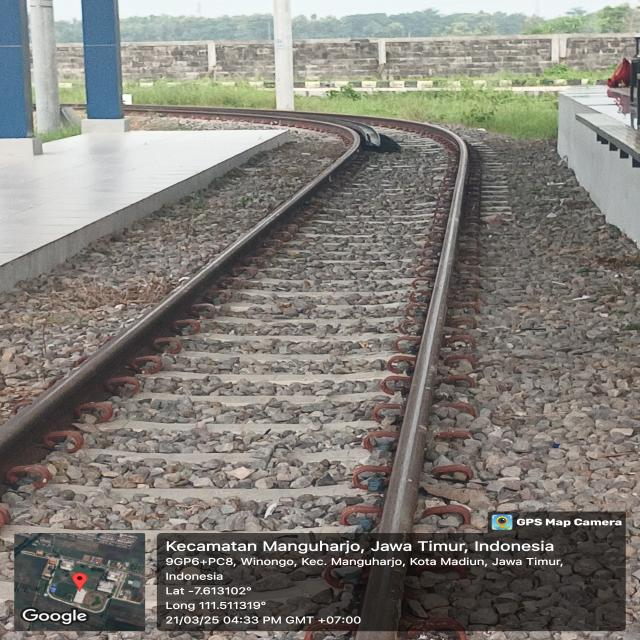rail-detection: (0, 106, 468, 533), (356, 562, 404, 640)
